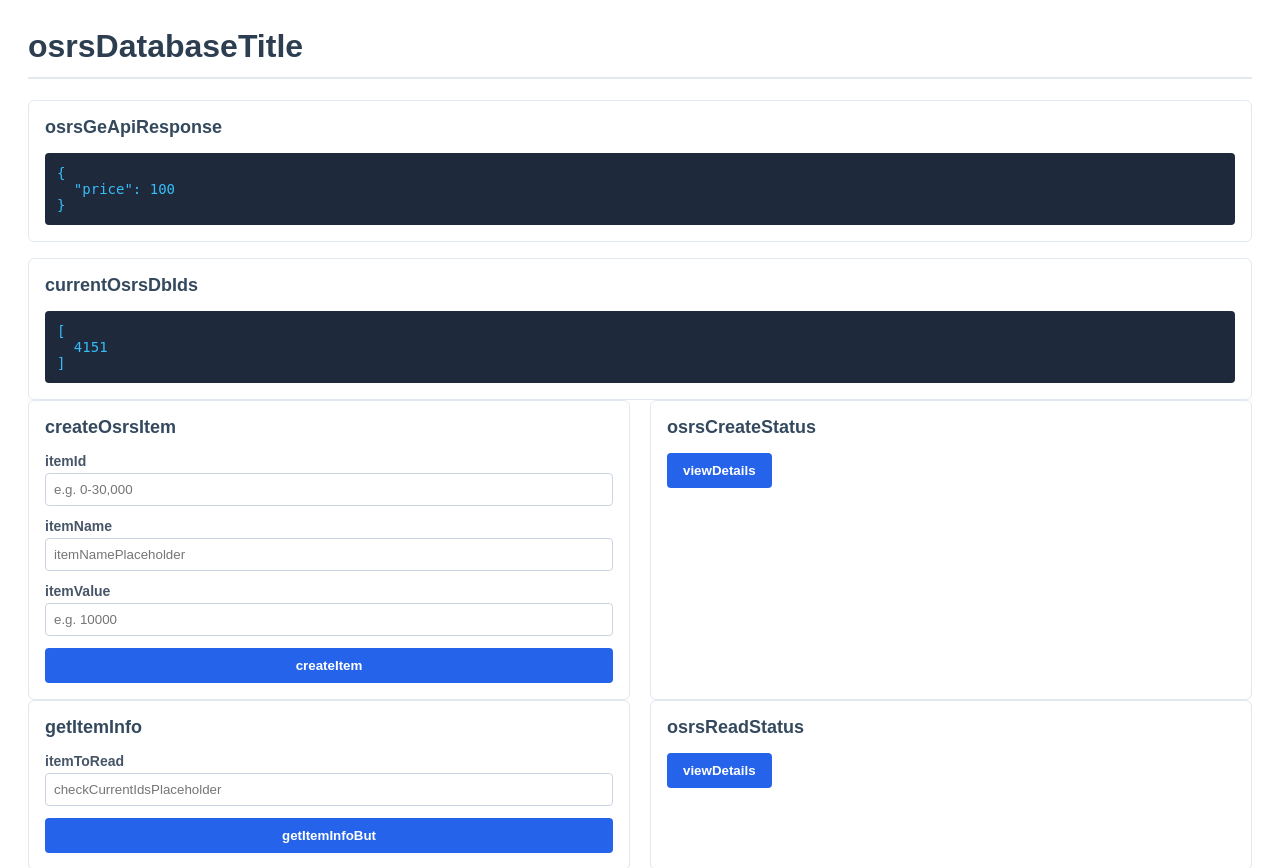
Scenario: OSRSPage Component Unit Tests › simulates read and checks status code block
The width and height of the screenshot is (1280, 868).
# Simulate a ID entry into the read form
Type "4151" into the number field with placeholder "checkCurrentIdsPlaceholder". click: (329, 790)
box: x1=45 y1=773 x2=613 y2=806
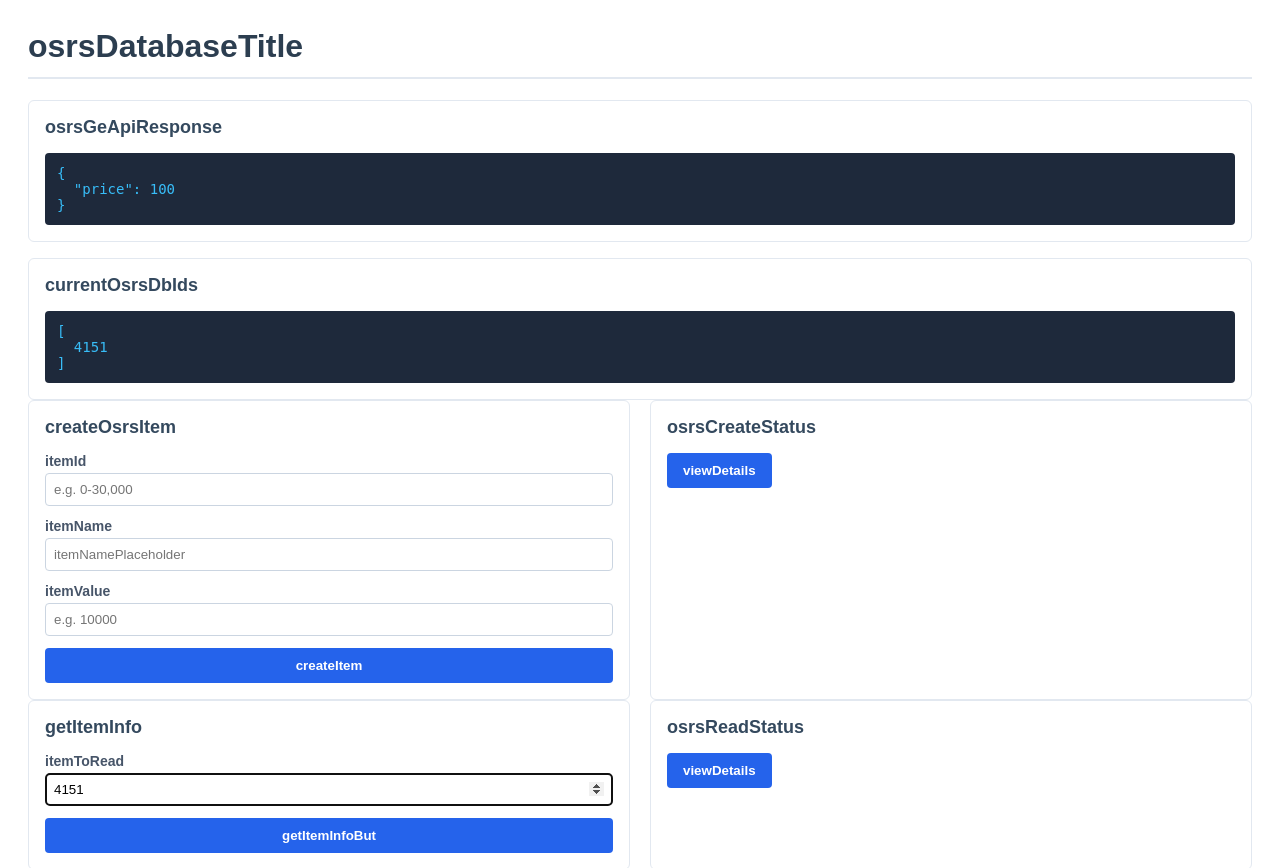
Click the button "getItemInfoBut". click: (329, 836)
box: x1=45 y1=818 x2=613 y2=853
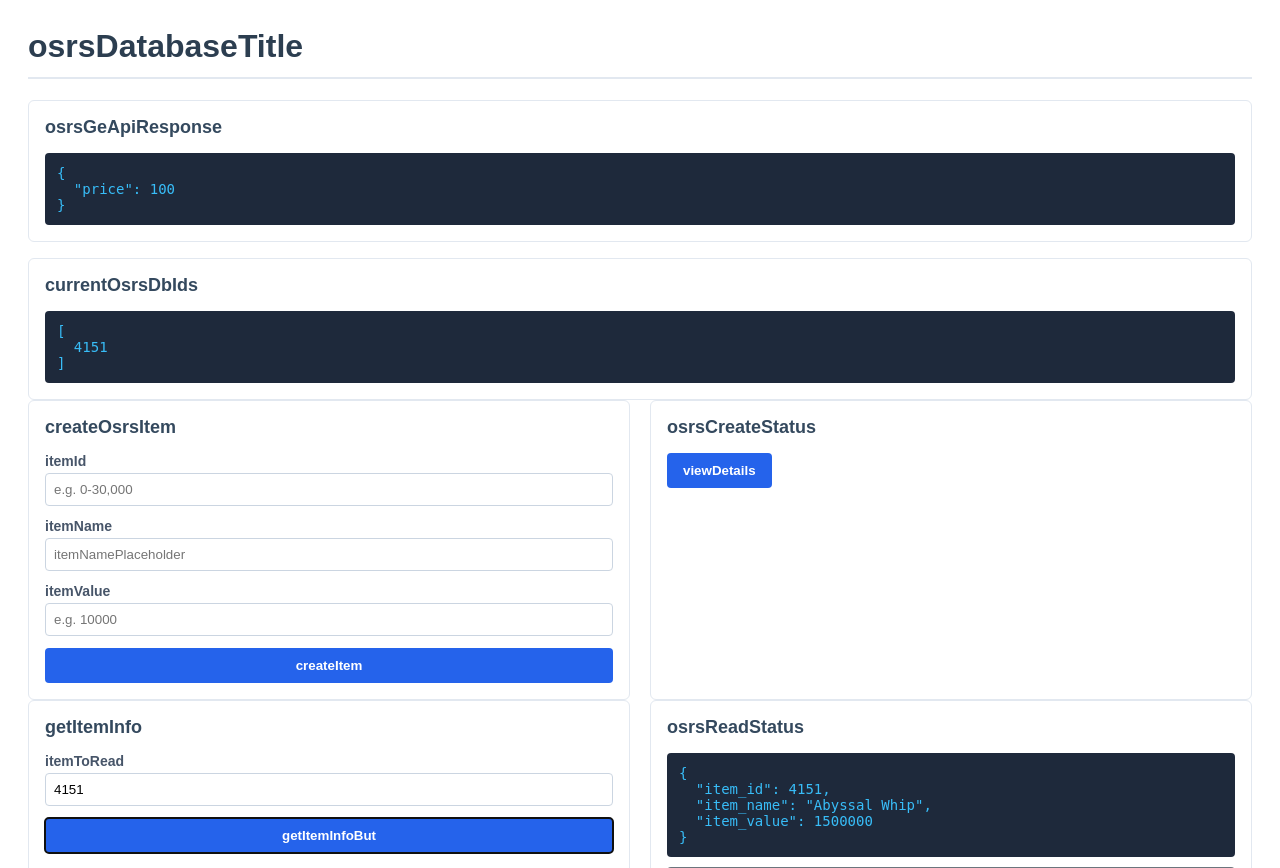
Now the text "Abyssal Whip" is shown, box x1=679 y1=765 x2=932 y2=845
